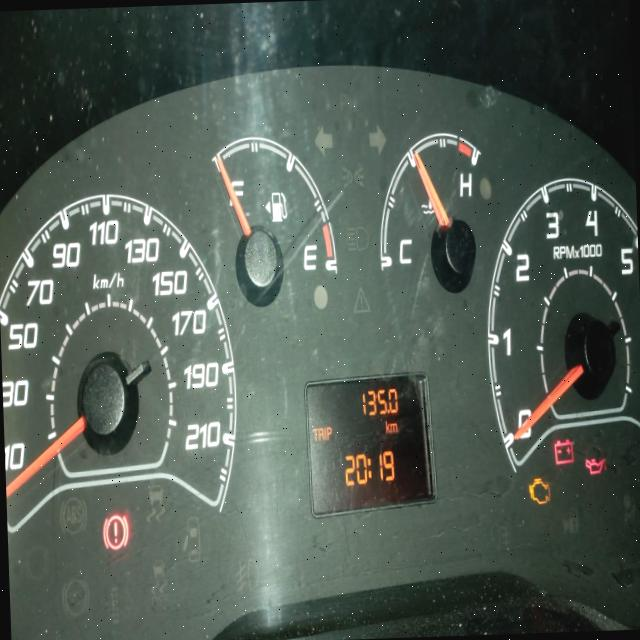odometer: (302, 370, 438, 520)
